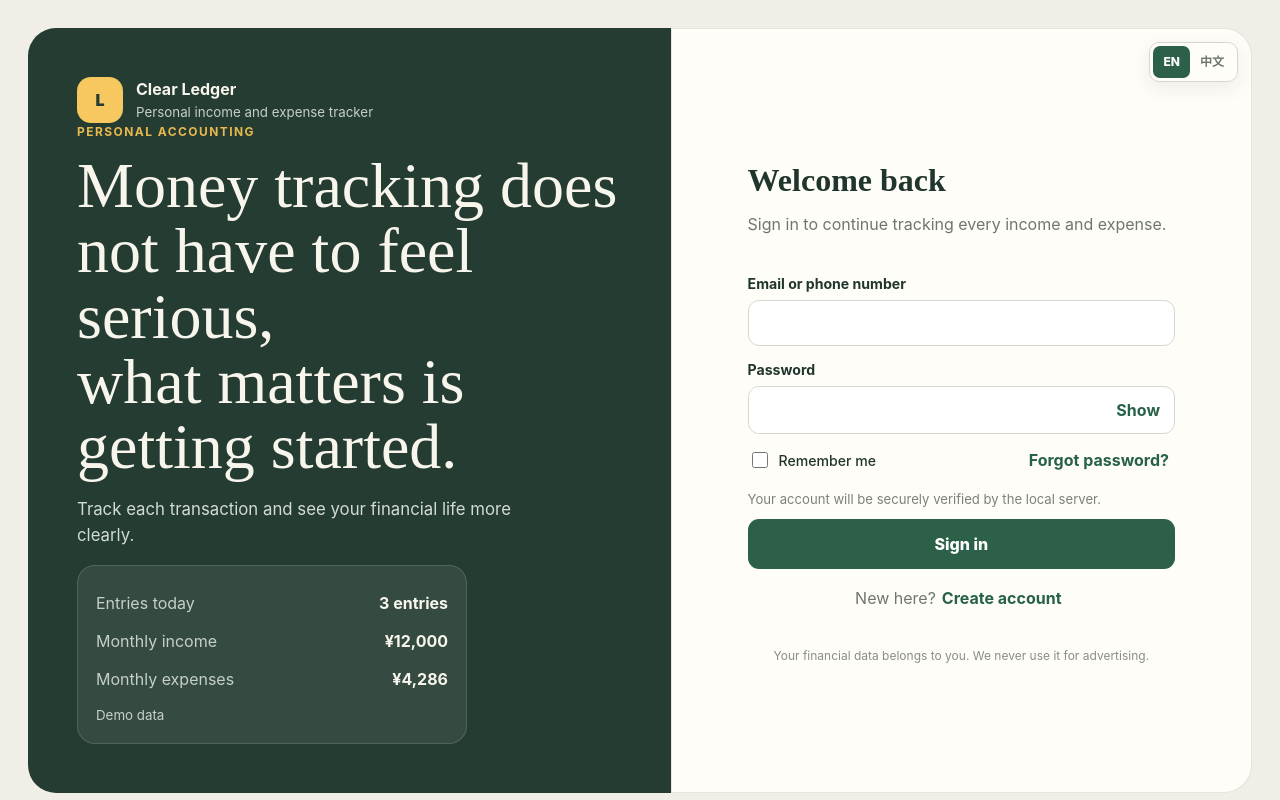
AuthGate › 可以在登录前切换为中文
Click the button "中文": (1212,62) [1190,46,1234,78]
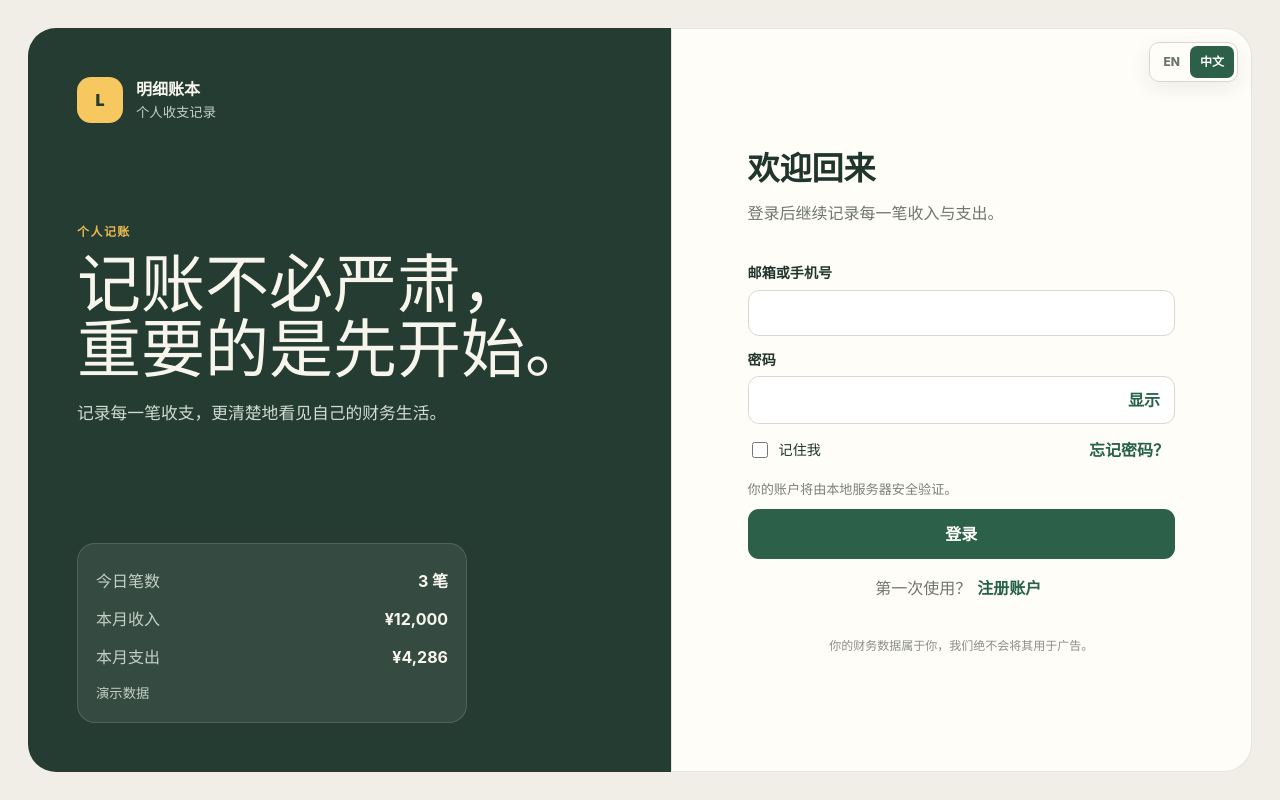
Now the text "欢迎回来" is shown, box [748,151,876,187]
Now the text "忘记密码？" is shown, box [1083,437,1175,463]
Now the text "你的账户将由本地服务器安全验证。" is shown, box [748,481,957,497]
